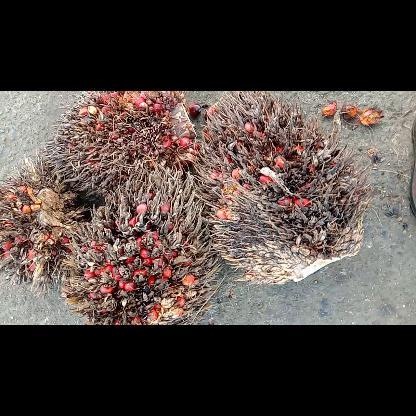Terlalu masak: (188, 91, 376, 291), (57, 160, 229, 324), (41, 91, 204, 207), (0, 152, 90, 302)
